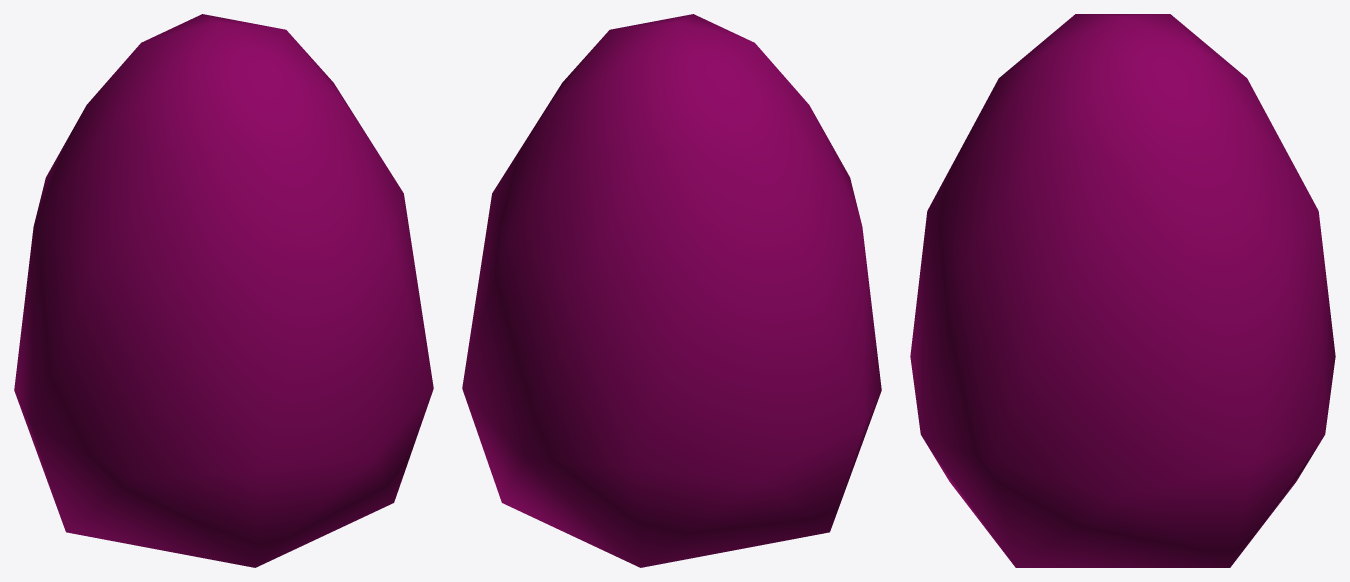
Rendered from egg01REV_v1-1.12.2021.fbx.
The picture shows the model from 3 angles, left to right: view 1: azimuth 30°, elevation 25°; view 2: azimuth 150°, elevation 25°; view 3: azimuth 270°, elevation 25°; orthographic projection. The views are drawn at different scales.
Visible parts, largest first — view 1: CoL_egg01; view 2: CoL_egg01; view 3: CoL_egg01.
Boxes of the visible parts, box(x1,y1,x2,y2) form: CoL_egg01: box(14, 14, 433, 567); CoL_egg01: box(462, 14, 881, 567); CoL_egg01: box(910, 14, 1335, 567).
Size of the model in its own units: 39.32 by 54.17 by 38.34.
